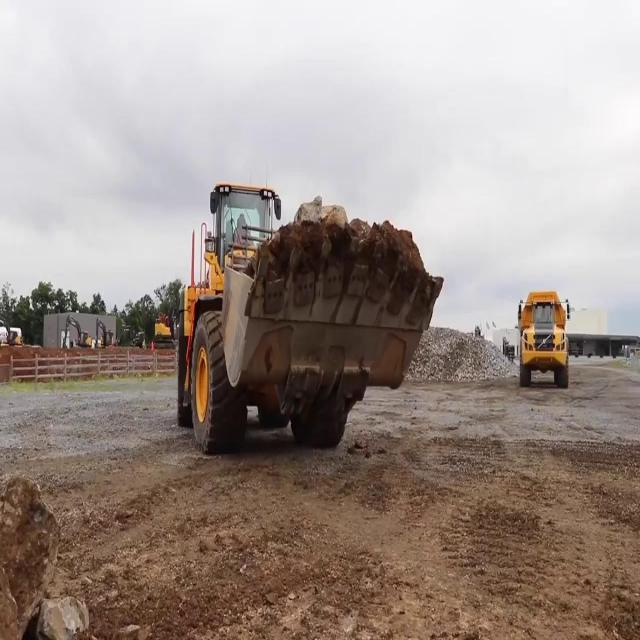bull_dozer/loader/grader: (176, 180, 444, 456)
dump_truck: (517, 289, 569, 386)
